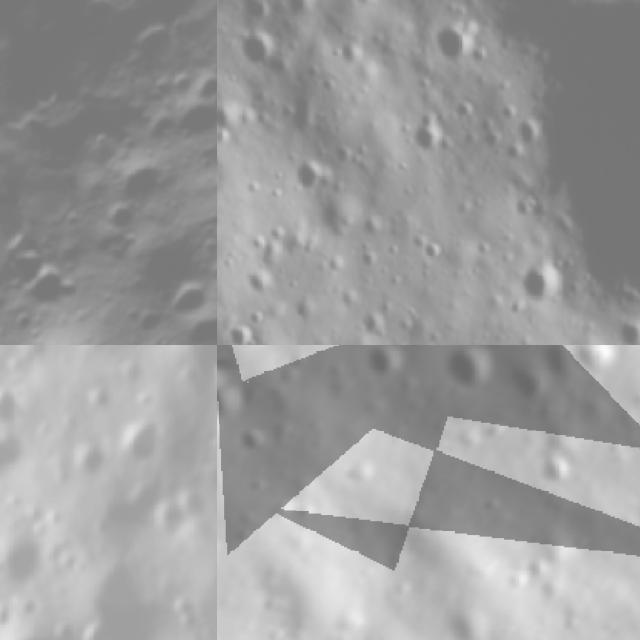crater: (9, 249, 94, 336), (104, 142, 178, 218), (121, 14, 196, 88), (151, 265, 217, 342), (0, 230, 64, 304), (429, 345, 508, 404), (523, 434, 588, 496), (166, 82, 217, 157), (494, 350, 554, 411), (97, 189, 156, 248), (0, 523, 43, 594), (552, 345, 626, 386), (350, 345, 410, 390), (513, 252, 569, 296), (229, 414, 278, 464), (0, 428, 31, 492), (172, 301, 217, 345), (233, 30, 284, 67), (124, 424, 168, 466), (415, 98, 444, 159), (74, 444, 105, 476), (440, 23, 464, 63), (422, 240, 455, 265), (301, 158, 326, 190), (0, 387, 21, 421), (520, 115, 542, 142), (232, 322, 255, 345), (217, 156, 229, 200), (254, 227, 266, 256), (254, 271, 266, 297)
